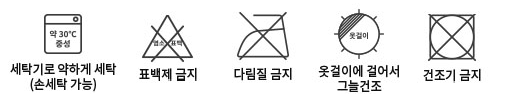KR_hang_dry_in_shade: (334, 8, 387, 60)
KR_no_chlorine_bleach: (138, 13, 195, 65)
KR_no_iron: (234, 7, 294, 64)
KR_no_tumble_dry: (421, 11, 482, 64)
KR_wash_warm_30_neutral: (40, 11, 86, 57)
